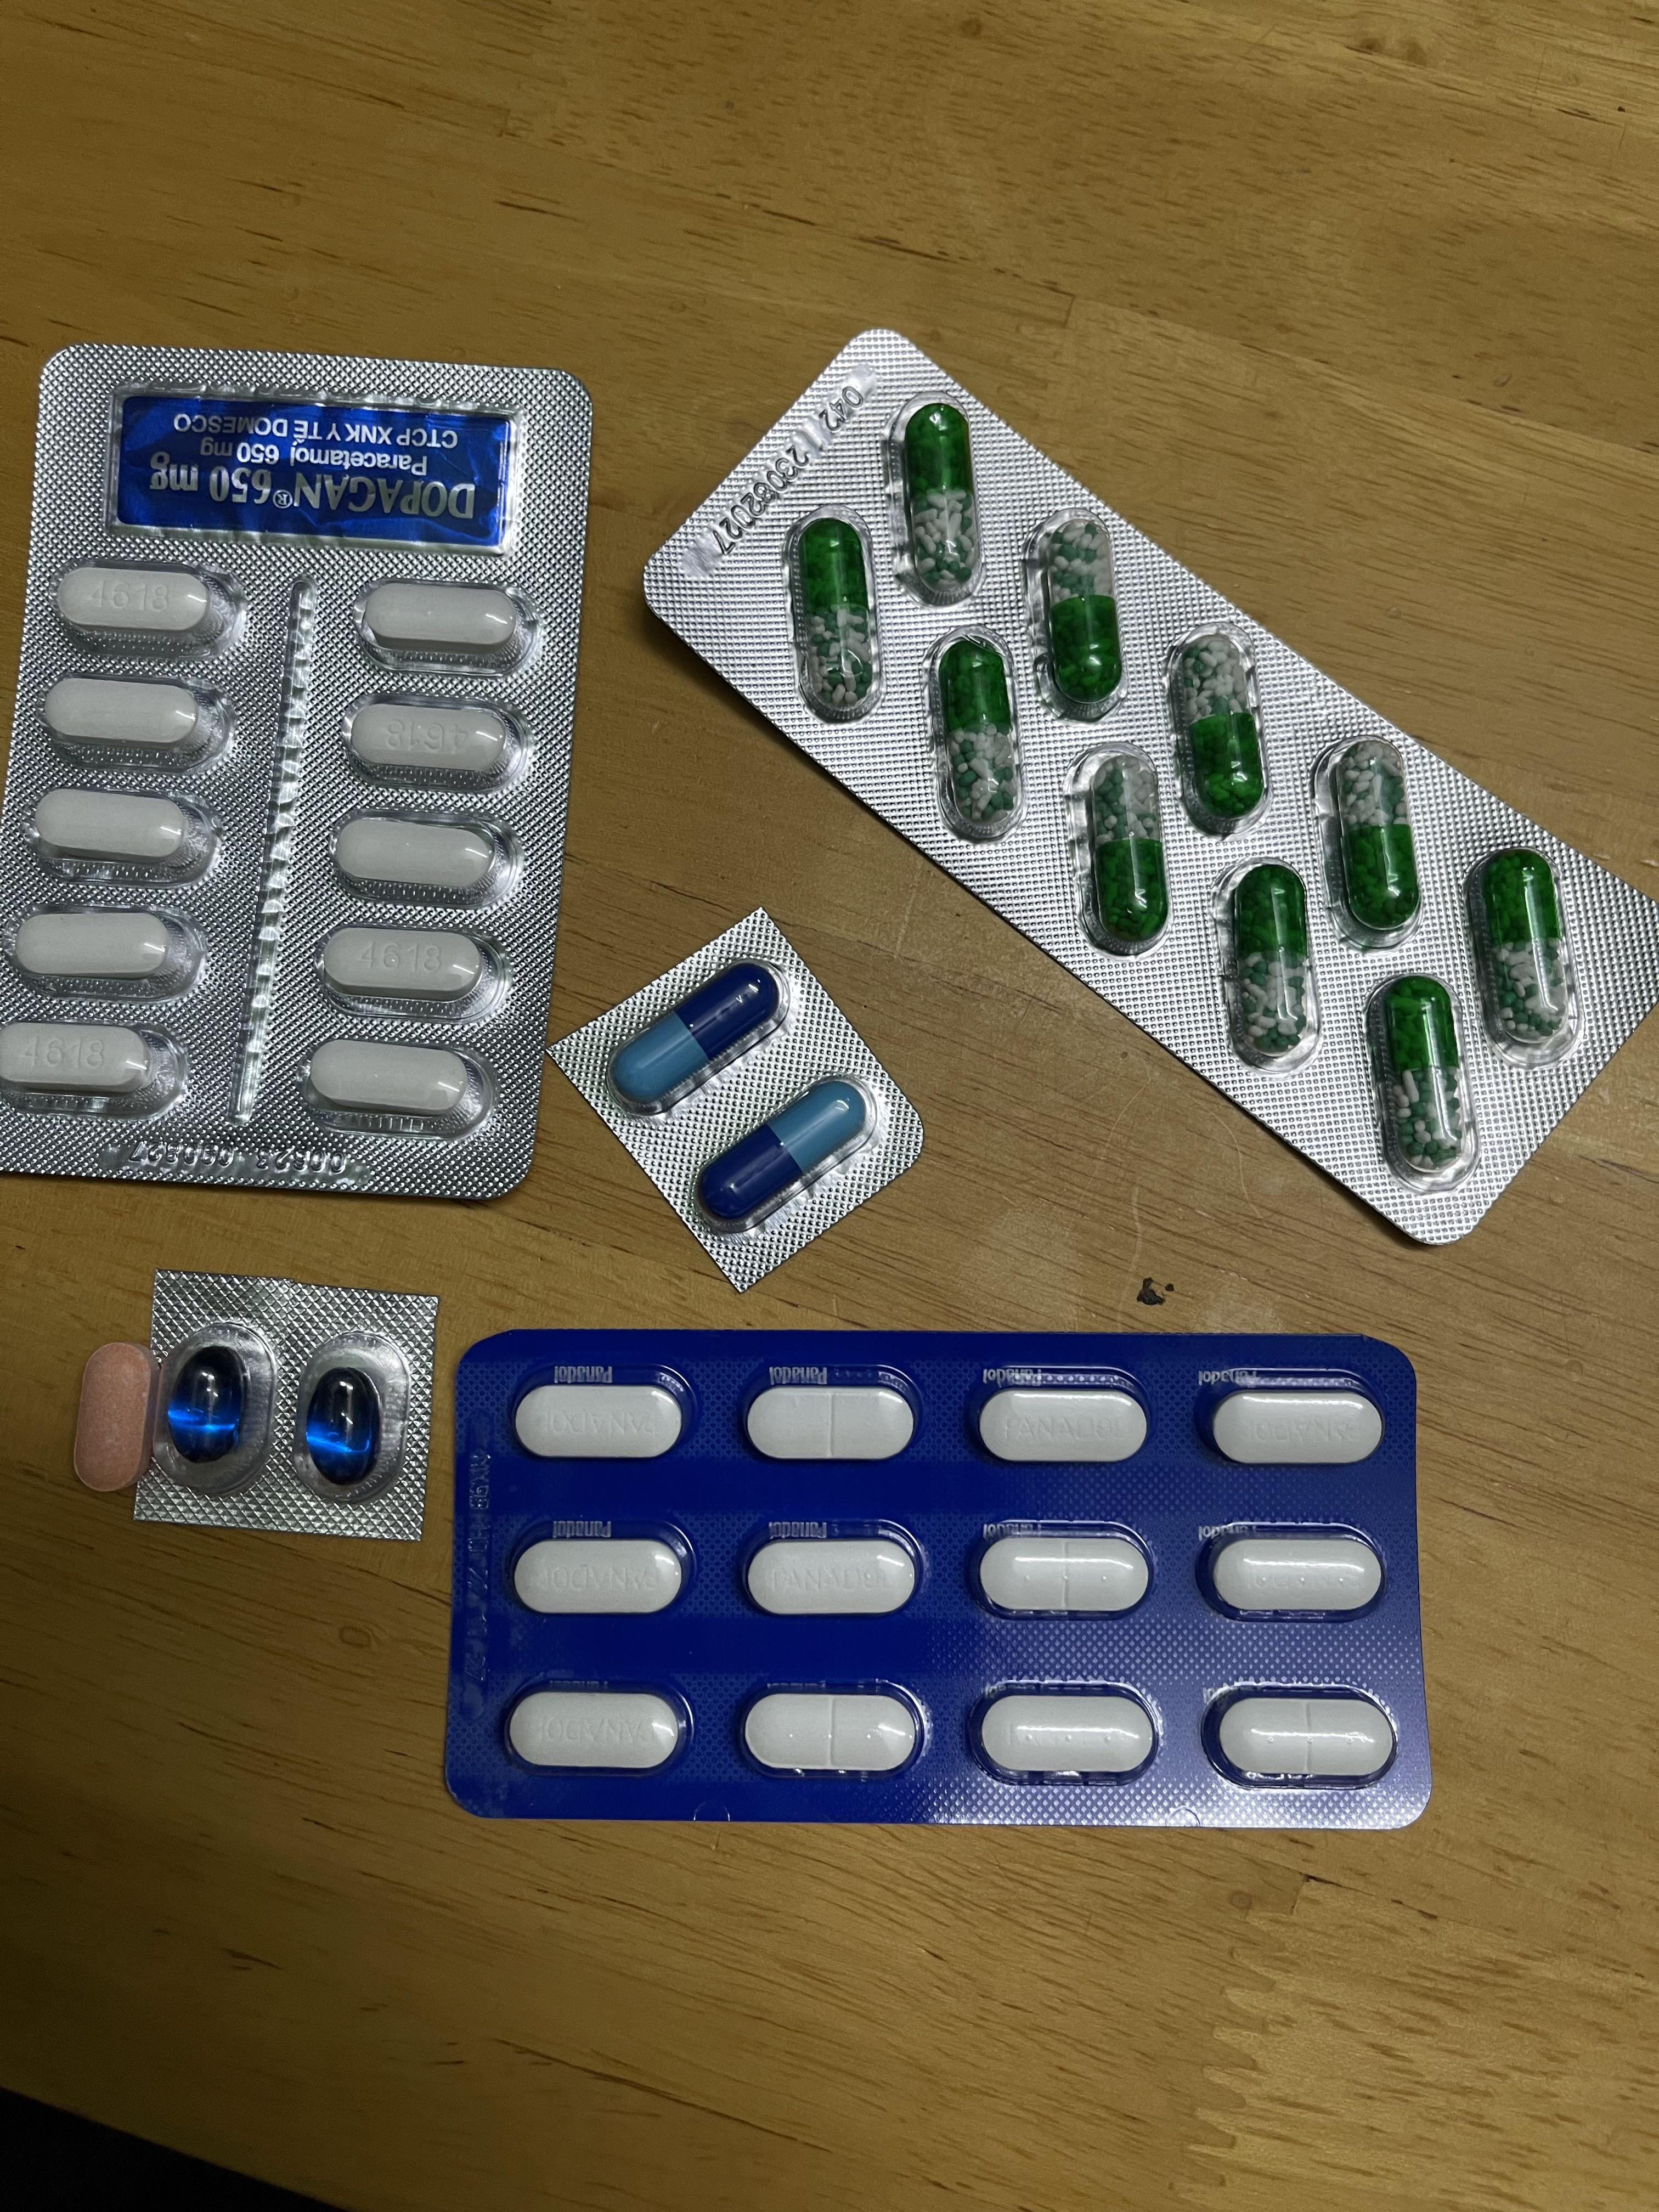Lincomyxin_500mg: (167, 1348, 251, 1456), (305, 1369, 383, 1480)
Loratadine_10mg: (73, 1341, 155, 1489)
Paracetamol_350mg: (976, 1689, 1157, 1780), (739, 1688, 922, 1777), (972, 1527, 1150, 1618), (1202, 1529, 1385, 1616), (1209, 1695, 1396, 1780), (742, 1531, 924, 1618), (505, 1686, 687, 1771), (1202, 1383, 1384, 1467), (511, 1533, 690, 1616), (972, 1381, 1148, 1465), (742, 1379, 917, 1463), (514, 1379, 687, 1460)
Paracetamol_500mg: (5, 904, 204, 995), (24, 786, 218, 876), (0, 1019, 183, 1113), (40, 674, 227, 758), (354, 577, 533, 662), (342, 697, 523, 779), (54, 563, 239, 643), (303, 1038, 481, 1120), (331, 813, 509, 892), (315, 923, 486, 1001)
Paracetamol_650mg: (1324, 737, 1419, 937), (1032, 516, 1122, 712), (1223, 864, 1314, 1061), (932, 634, 1021, 834), (1171, 632, 1263, 824), (1481, 850, 1568, 1047), (1080, 752, 1168, 946), (1382, 979, 1467, 1174), (795, 517, 877, 714), (899, 402, 978, 594)
pill: (699, 1080, 864, 1224), (613, 963, 779, 1104)
